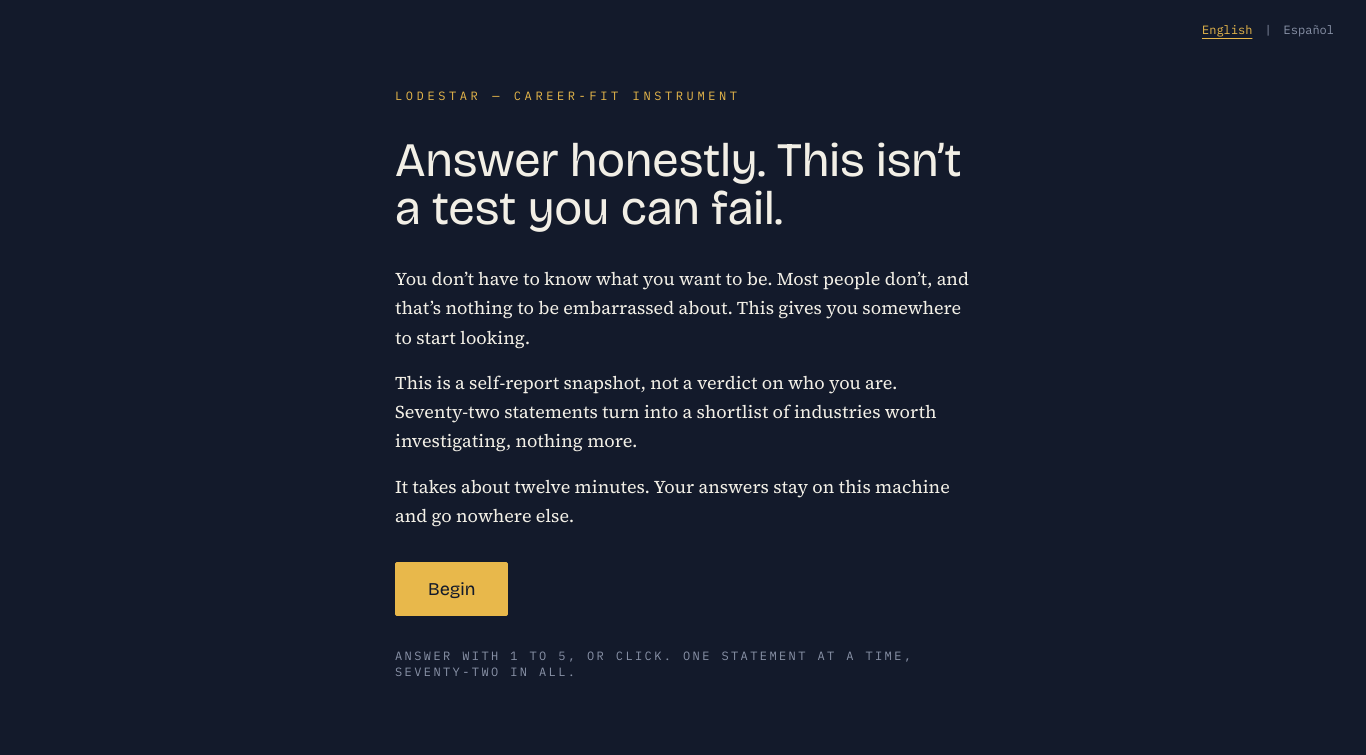
Test case: keyboard vs. native radio-group navigation (Finding 1) › still navigates on arrow keys when focus is not on a radio
Click the button "Begin" at (452, 589), box [395,562,508,616]
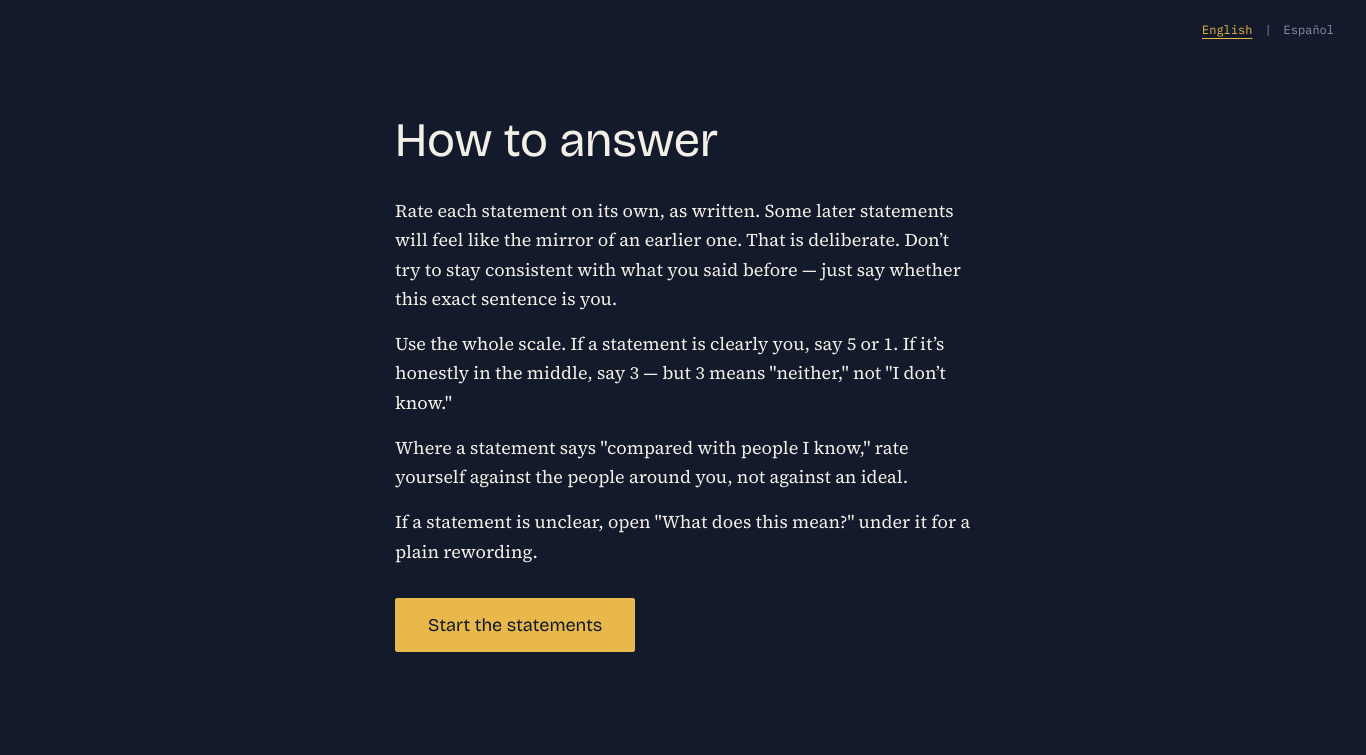
Click the button "Start the statements" at (515, 625), box [395,598,635,652]
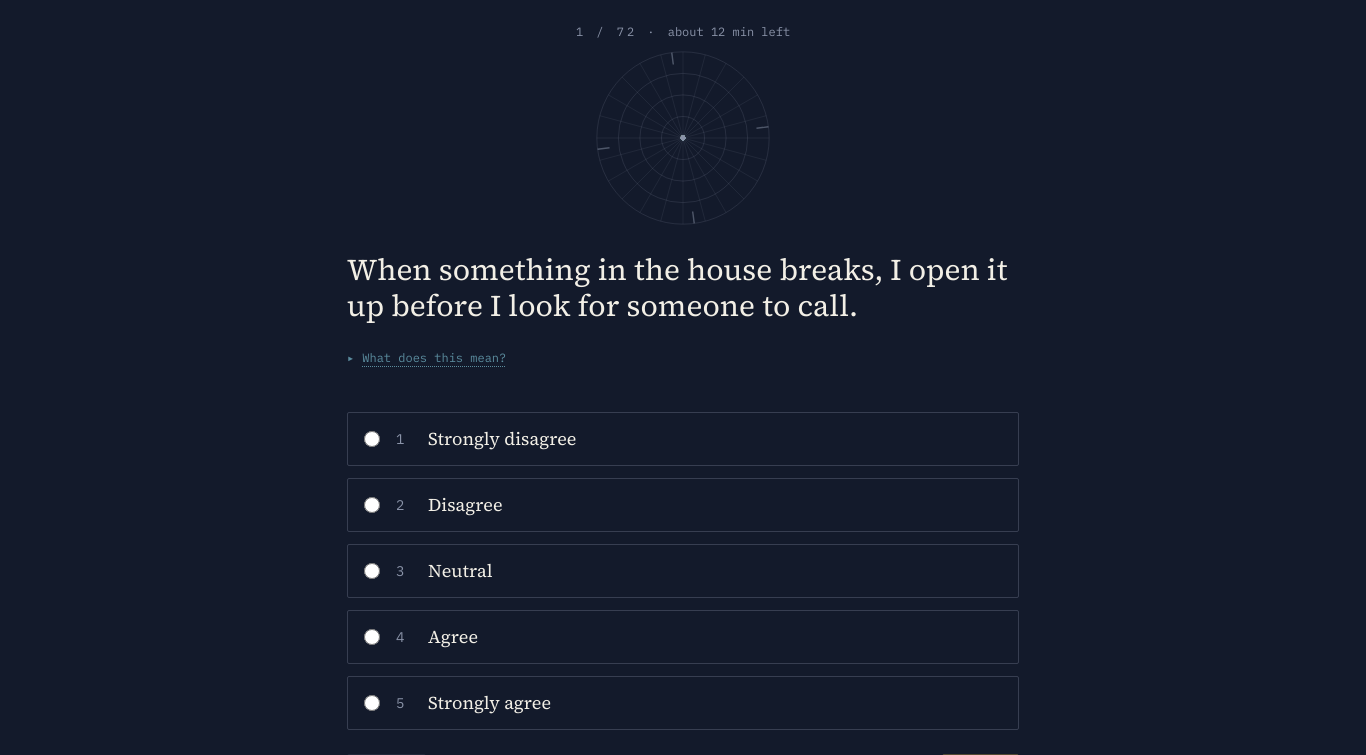
Press ArrowRight
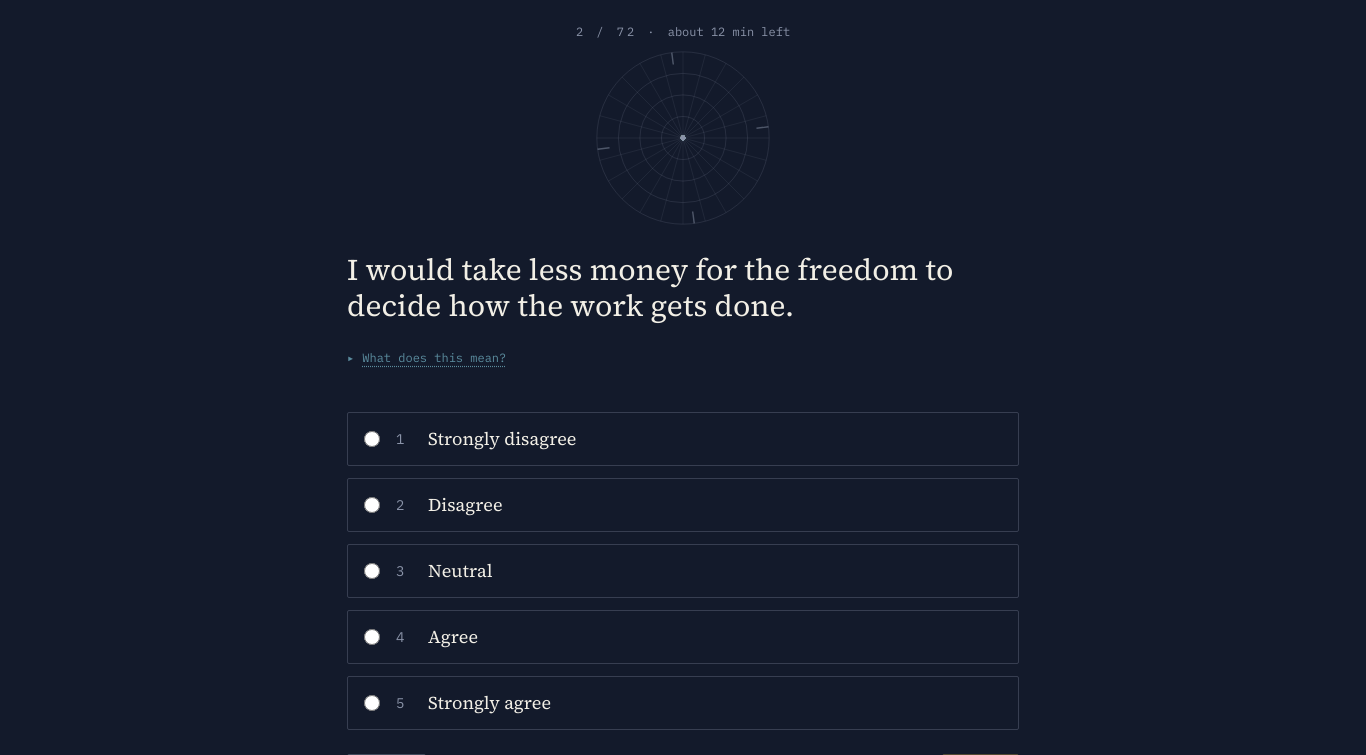
Now the text "I would take less money for the freedom to decide how the work gets done." is shown, box [347,252,1019,324]
